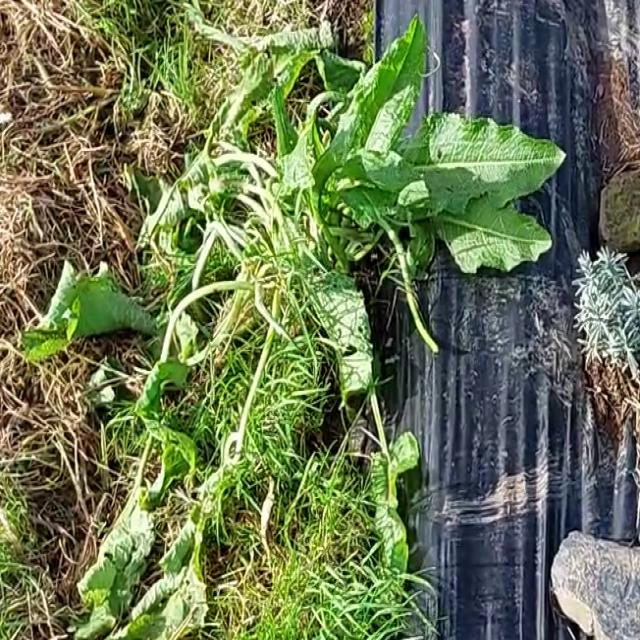organic waste: (140, 38, 572, 338), (61, 385, 265, 640), (0, 224, 236, 401)
